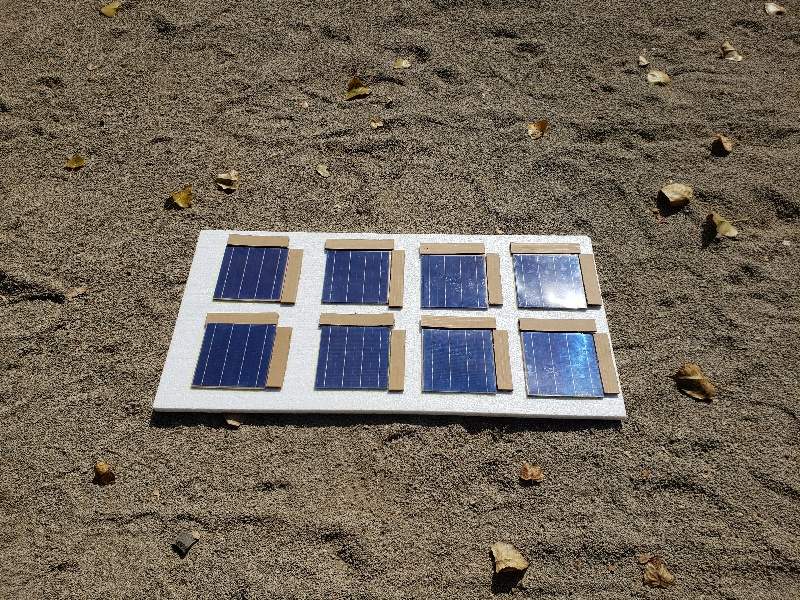clean: (517, 330, 606, 402), (316, 323, 389, 390), (421, 328, 496, 392), (196, 327, 273, 387), (317, 246, 393, 306), (417, 253, 487, 311), (211, 246, 282, 302)
